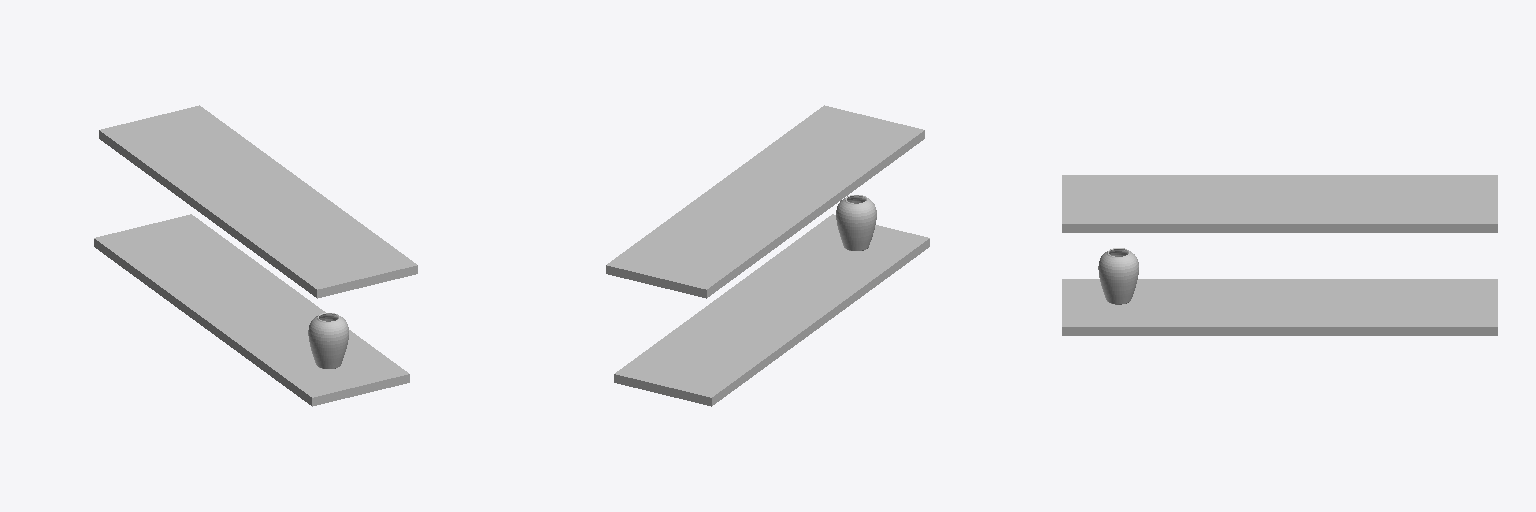
The model's file is repisa.obj.
3 renders of one model, left to right at view 1: azimuth 30°, elevation 25°; view 2: azimuth 150°, elevation 25°; view 3: azimuth 270°, elevation 25°, orthographic.
Visible parts, largest first — view 1: polySurface293; view 2: polySurface293; view 3: polySurface293.
Part boxes in pixels (x1,y1,x2,y2): polySurface293: (94, 105, 417, 406); polySurface293: (606, 105, 929, 406); polySurface293: (1062, 175, 1497, 335).
Bounding box in the file's own units: 4.06 × 4.23 × 14.48.